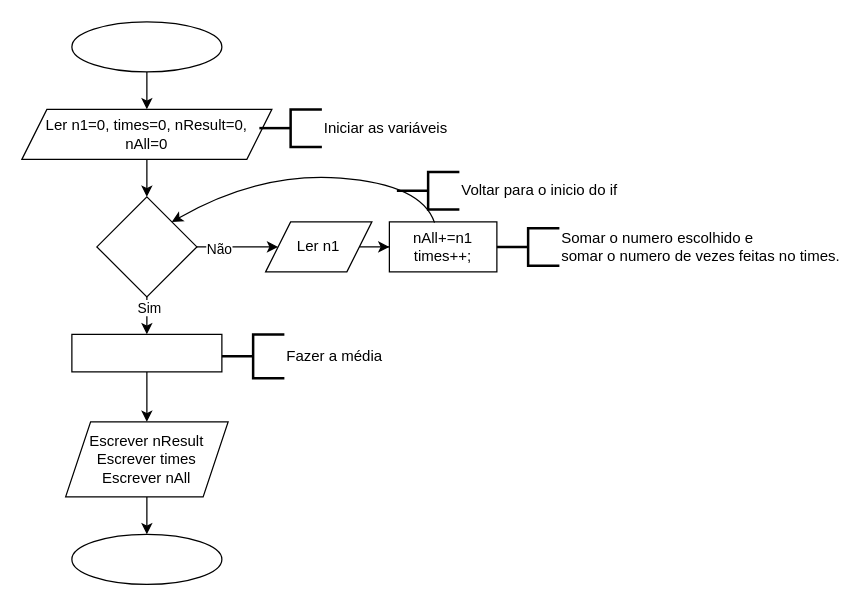
Image size: 863x606. Some labels were removed from this diagram. Each missing label, with the centre of its shape:
Fim: the point at 146,558
Inicio: the point at 146,46
nAll > 1000: the point at 146,246
nResult = nAll/times: the point at 146,352
